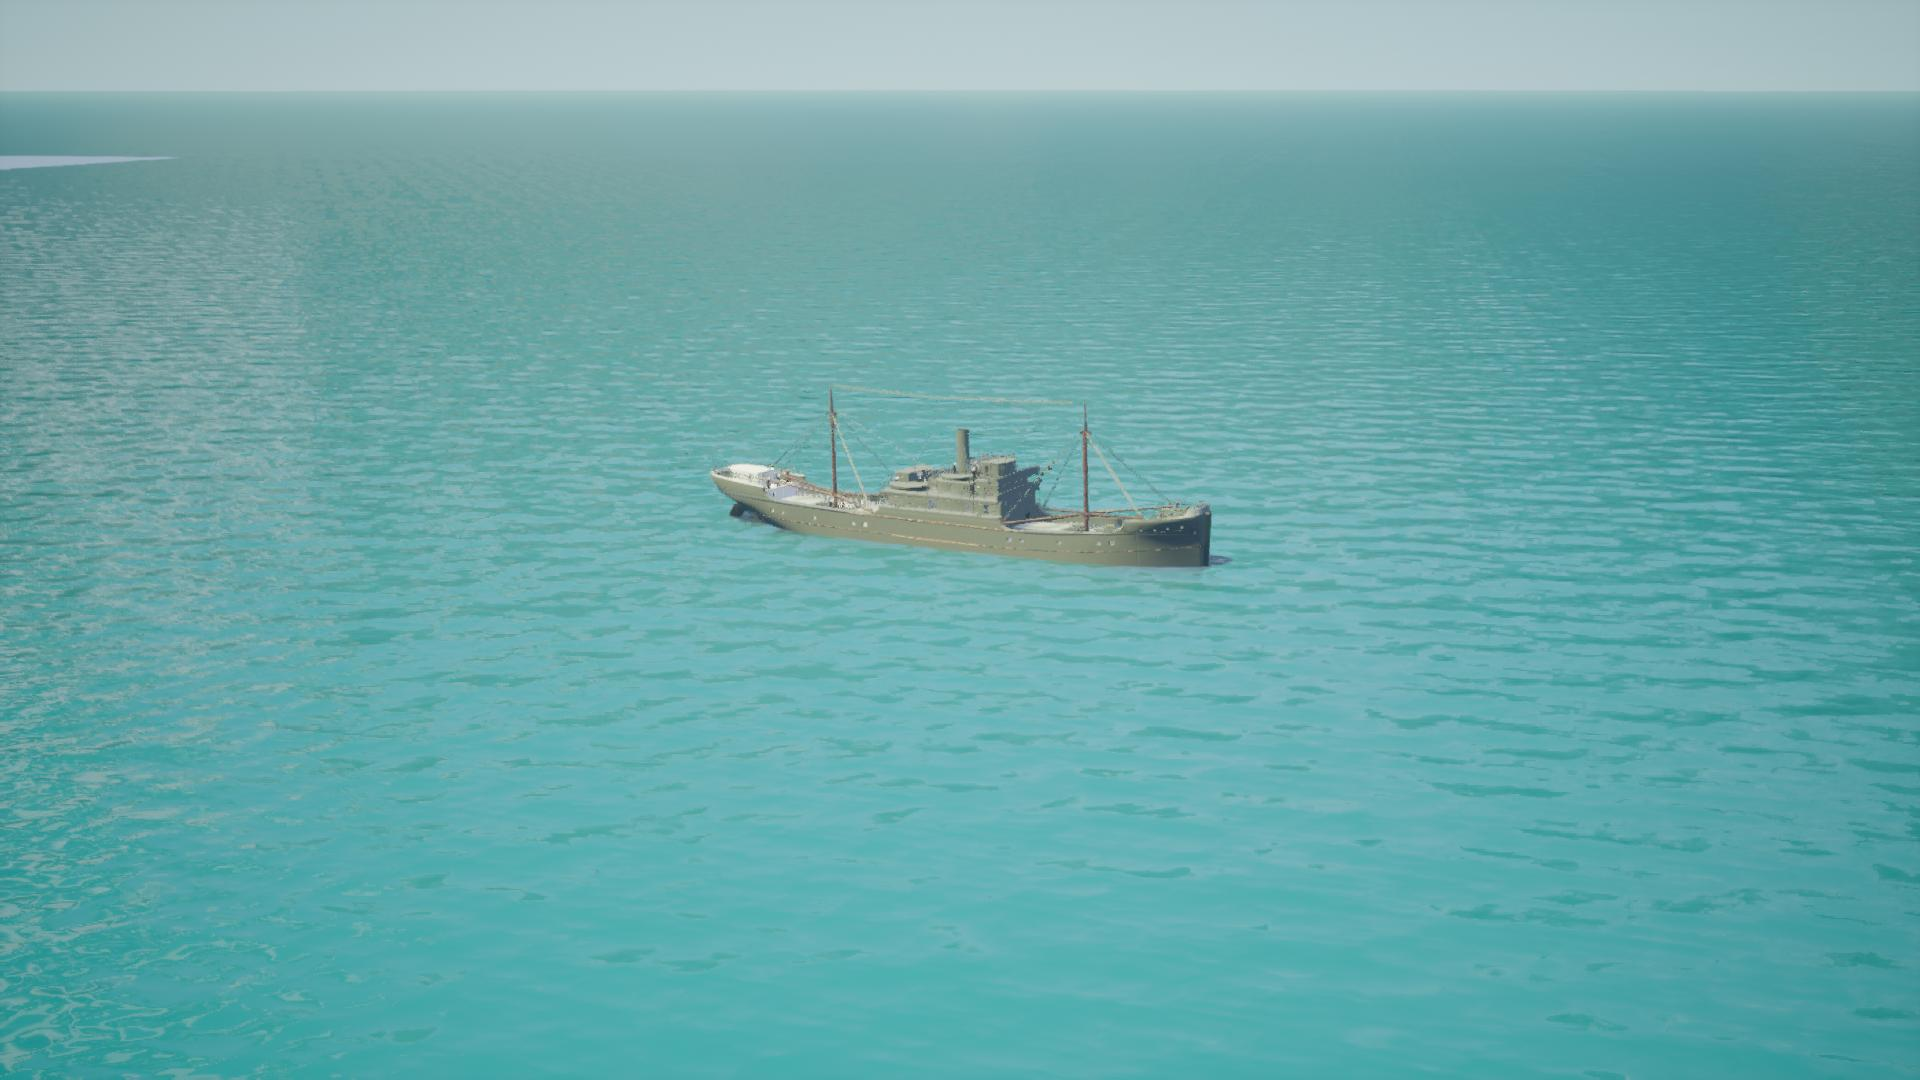Fishing Boat: (711, 388, 1212, 572)
